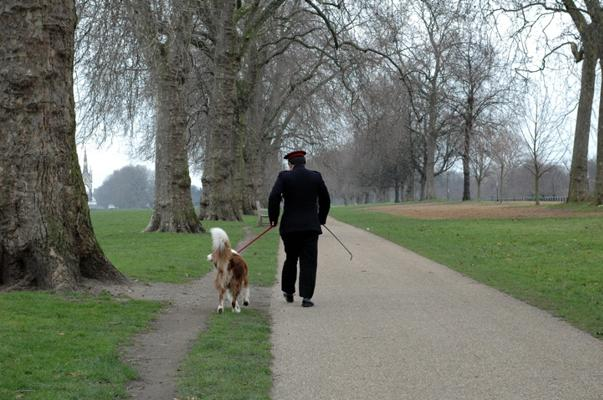person: (266, 153, 331, 307)
